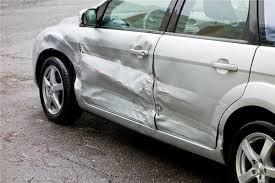doorouter-dent: (156, 33, 241, 130), (77, 28, 155, 122)
fender-dent: (30, 22, 80, 66)
